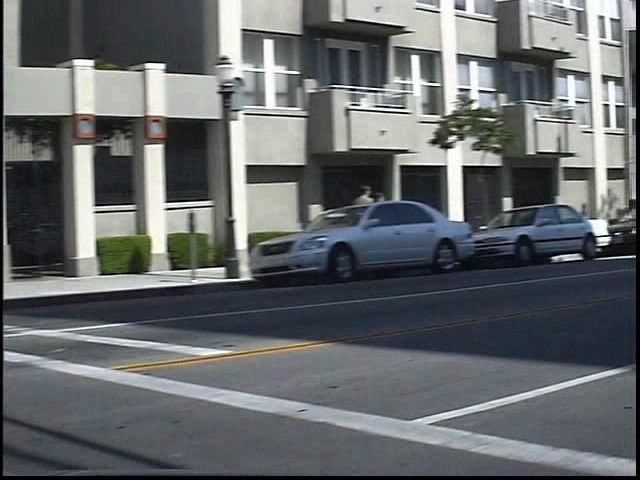person: (367, 180, 391, 255), (385, 188, 405, 250)
